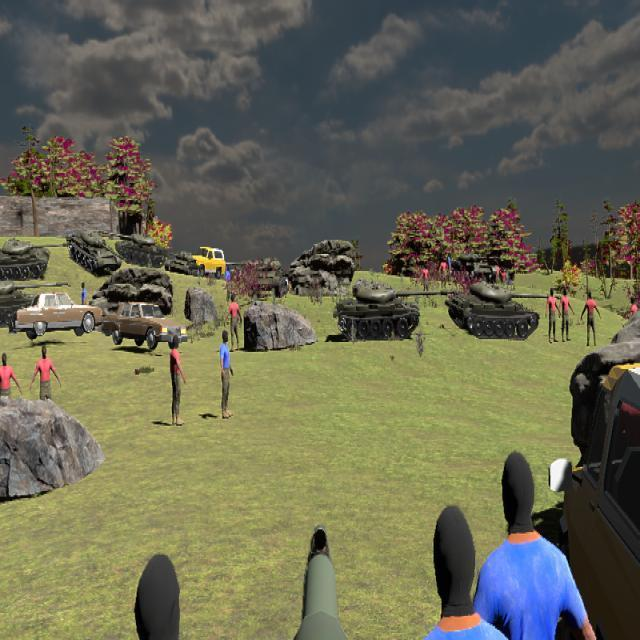Human: (466, 444, 625, 640), (169, 335, 186, 427), (0, 352, 22, 423), (220, 329, 234, 421), (581, 289, 601, 348), (225, 293, 243, 351), (545, 286, 561, 344), (560, 287, 575, 342)
Tank: (333, 281, 458, 342), (445, 283, 560, 341), (0, 239, 66, 281), (67, 228, 124, 276), (98, 230, 168, 267), (0, 281, 49, 328), (248, 257, 289, 299), (450, 251, 496, 283), (165, 250, 195, 277)
car: (11, 291, 102, 339), (99, 302, 189, 350), (192, 247, 226, 279)
